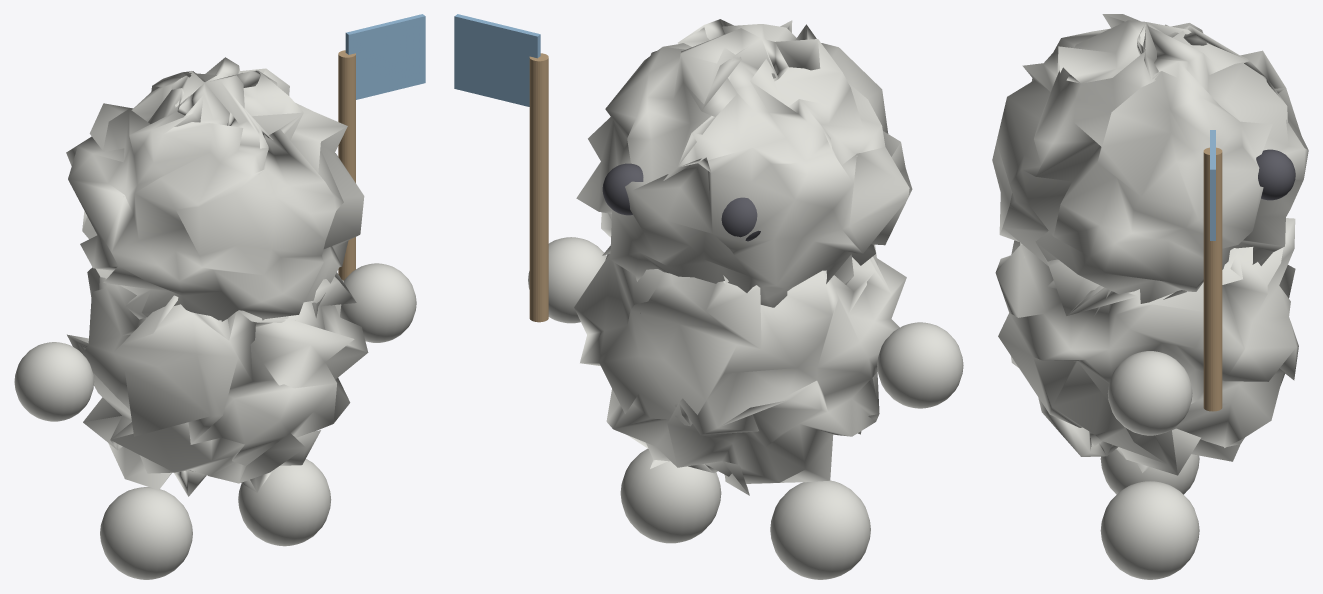
File: clay_astronaut_flag.glb
The picture shows the model from 3 angles, left to right: view 1: azimuth 30°, elevation 25°; view 2: azimuth 150°, elevation 25°; view 3: azimuth 270°, elevation 25°; orthographic projection. The views are drawn at different scales.
Visible parts, largest first — view 1: flag; view 2: flag; view 3: flag.
Part boxes in pixels (x1=…): flag: x1=14, y1=14, x2=425, y2=579; flag: x1=454, y1=14, x2=963, y2=579; flag: x1=992, y1=14, x2=1308, y2=579.
Bounding box in the file's own units: 1.7 × 1.82 × 1.01.
